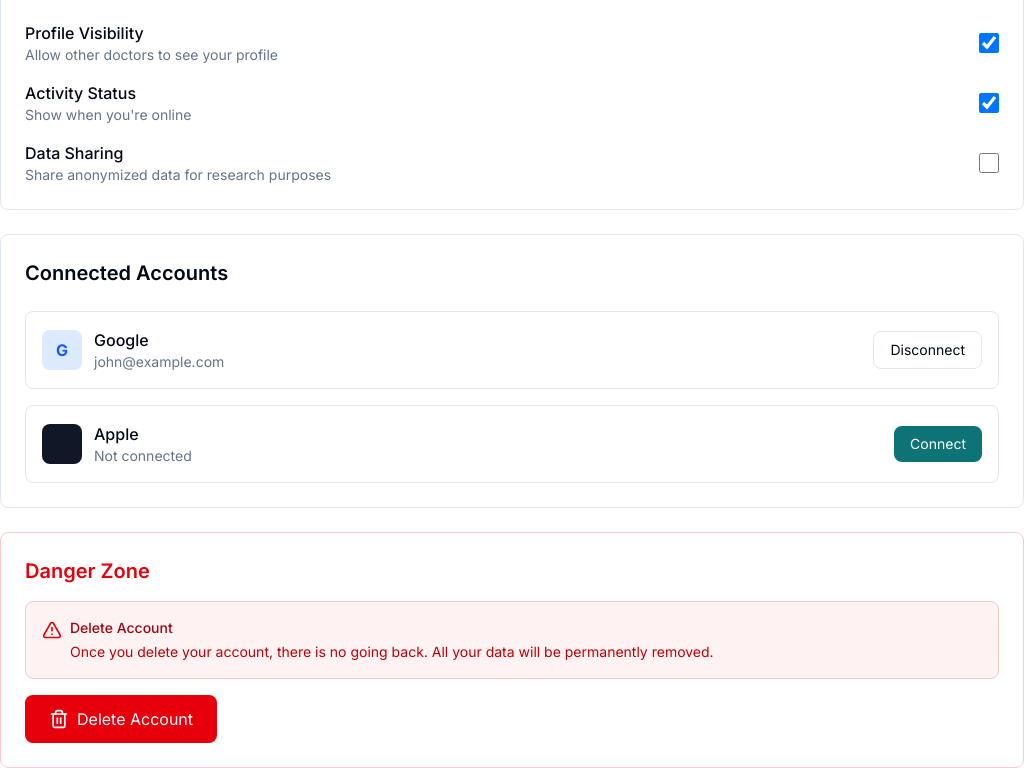
Scenario: AccountSettings › should show delete account modal when delete button is clicked
This screenshot has width=1024, height=768.
(page scrolled)
Click the button "Delete Account".
click(121, 719)  # box [25,695,217,743]
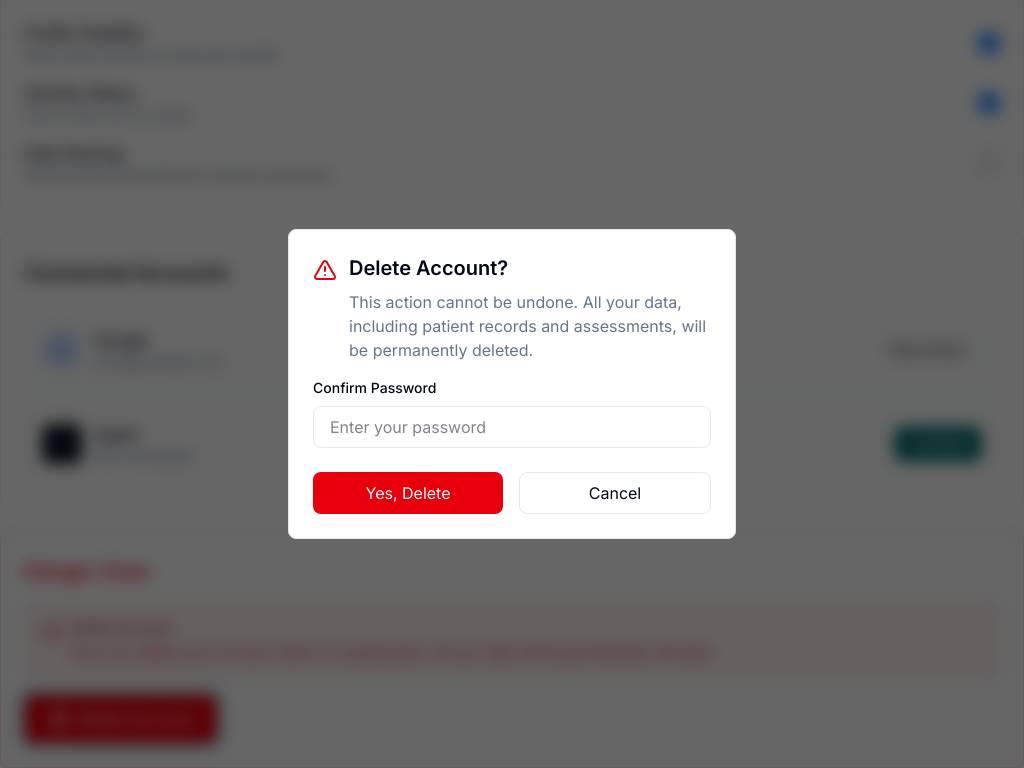
Expected: the heading "Delete Account?" is shown, [349,256,508,280]
Expected: the text "This action cannot be undone" is shown, [349,292,706,360]
